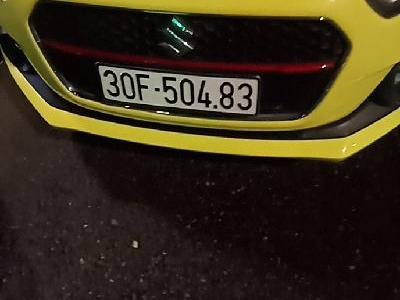lisence: (94, 62, 262, 117)
